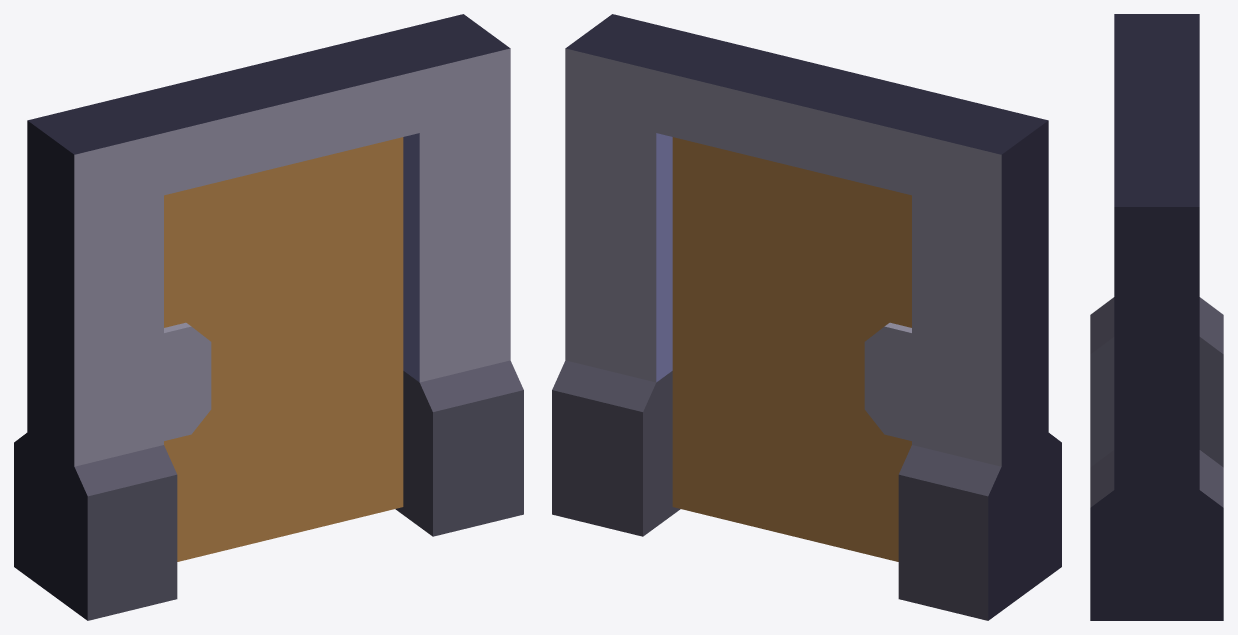
File: DoorSwing.fbx
The picture shows the model from 3 angles, left to right: view 1: azimuth 30°, elevation 25°; view 2: azimuth 150°, elevation 25°; view 3: azimuth 270°, elevation 25°; orthographic projection. The views are drawn at different scales.
Parts seen in each view (by area): view 1: DoorInside, DoorInside(Door); view 2: DoorInside, DoorInside(Door); view 3: DoorInside.
Part boxes in pixels (<box>): DoorInside: <box>14,14,523,620</box>; DoorInside(Door): <box>164,137,403,561</box>; DoorInside: <box>552,14,1061,620</box>; DoorInside(Door): <box>672,137,911,561</box>; DoorInside: <box>1090,14,1223,620</box>.
Size of the model in its own units: 200 by 200 by 58.52.
